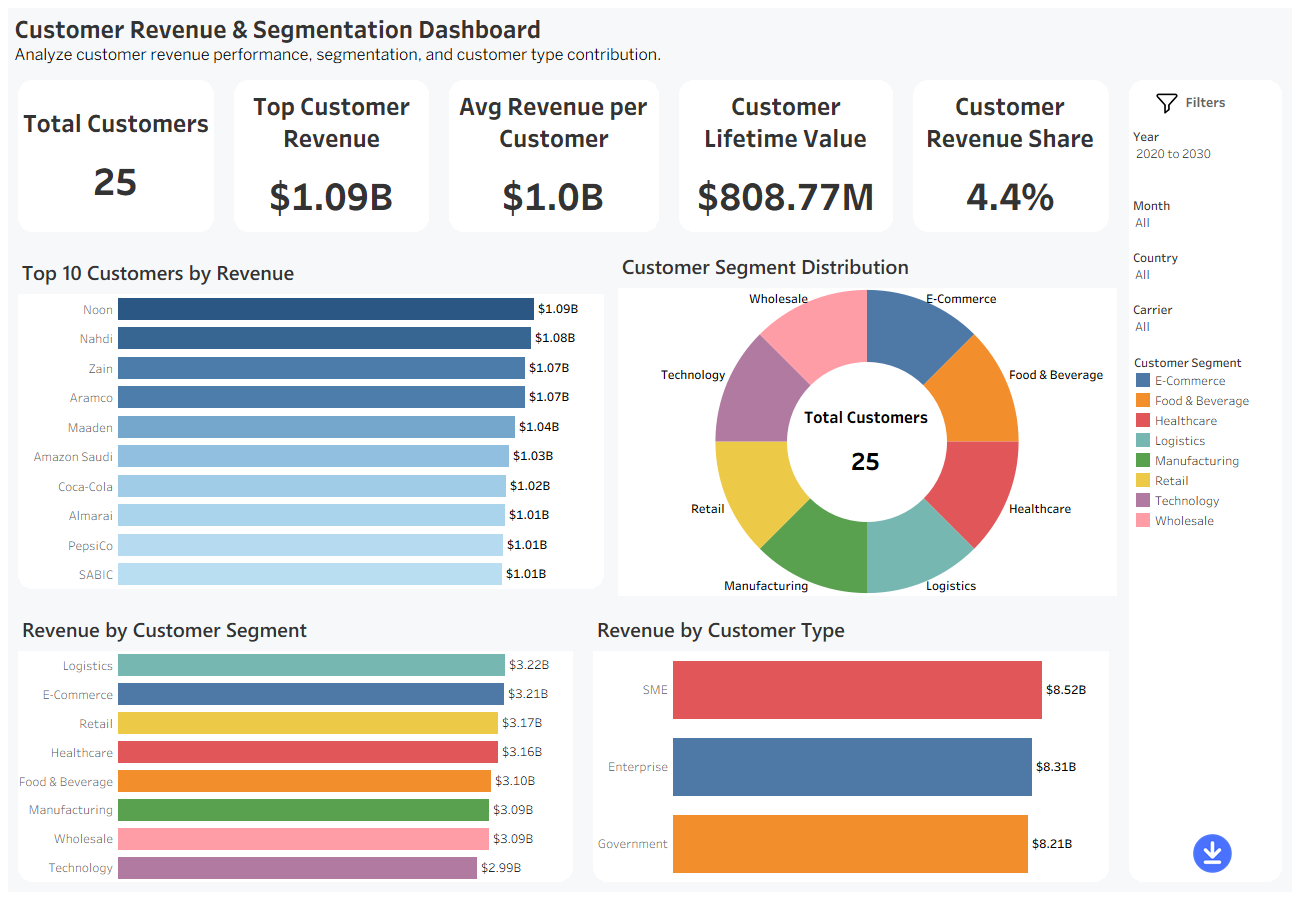

The dashboard page shown, as its layout file describes it:
{"tool":"tableau","page":{"name":"Customer Revenue & Segmentation Dashboard","canvas":[1300,900],"ordinal":0},"visuals":[{"type":"title","box":[8,8,1284,62]},{"type":"worksheet","title":"KPI - Total Customers","mark":"Text","box":[8,70,215.7,172]},{"type":"worksheet","title":"KPI - Top Customer Revenue","mark":"Automatic","box":[223.7,70,215.7,172]},{"type":"worksheet","title":"KPI - Avg Revenue per Customer","mark":"Automatic","box":[439.3,70,230,172]},{"type":"worksheet","title":"KPI - Customer Lifetime Value","mark":"Automatic","box":[669.3,70,234,172]},{"type":"worksheet","title":"KPI - Customer Revenue Share","mark":"Automatic","box":[903.3,70,215.7,172]},{"type":"text","box":[1129,80,153,43]},{"type":"image","param":"Image/filter.png","box":[1154,90,26,25]},{"type":"filter","title":"KPI - Avg Revenue per Customer","param":"[federated.0jvln5y0i2vktg16s0ugy1m90pce].[none:year_number:qk]","box":[1129,123,153,69]},{"type":"filter","title":"KPI - Avg Revenue per Customer","param":"[federated.0jvln5y0i2vktg16s0ugy1m90pce].[none:month_name:nk]","box":[1129,192,153,52]},{"type":"worksheet","title":"Top 10 Customers by Revenue","mark":"Automatic","rows":["customer_name"],"cols":["revenue_usd"],"box":[8,242,605.5,357]},{"type":"worksheet","title":"Customer Segment Distribution","mark":"Automatic","cols":["Calculation_1349133184978974","Calculation_1349133184978974"],"box":[613.5,242,505.5,357]},{"type":"filter","title":"KPI - Avg Revenue per Customer","param":"[federated.0jvln5y0i2vktg16s0ugy1m90pce].[none:country:nk]","box":[1129,244,153,52]},{"type":"filter","title":"KPI - Avg Revenue per Customer","param":"[federated.0jvln5y0i2vktg16s0ugy1m90pce].[none:carrier_name:nk]","box":[1129,296,153,52]},{"type":"legend","title":"Revenue by Customer Segment","param":"[federated.0jvln5y0i2vktg16s0ugy1m90pce].[none:customer_segment:nk]","box":[1129,348,153,186]},{"type":"worksheet","title":"Revenue by Customer Segment","mark":"Automatic","rows":["customer_segment"],"cols":["revenue_usd"],"box":[8,599,575,293]},{"type":"worksheet","title":"Revenue by Customer Type","mark":"Automatic","rows":["customer_type"],"cols":["revenue_usd"],"box":[583,599,536,293]},{"type":"dashboard-object","box":[1190,832,45,42]}]}

Visuals, with their boxes in screenshot pixels (x1, y1, x2, y2), scaled from the page's 1300x900 canvas onto the 1300x900 screenshot:
title: (8,8,1292,70)
"KPI - Total Customers" worksheet (Text marks): (8,70,224,242)
"KPI - Top Customer Revenue" worksheet: (224,70,439,242)
"KPI - Avg Revenue per Customer" worksheet: (439,70,669,242)
"KPI - Customer Lifetime Value" worksheet: (669,70,903,242)
"KPI - Customer Revenue Share" worksheet: (903,70,1119,242)
text: (1129,80,1282,123)
image: (1154,90,1180,115)
"KPI - Avg Revenue per Customer" filter: (1129,123,1282,192)
"KPI - Avg Revenue per Customer" filter: (1129,192,1282,244)
"Top 10 Customers by Revenue" worksheet: (8,242,614,599)
"Customer Segment Distribution" worksheet: (614,242,1119,599)
"KPI - Avg Revenue per Customer" filter: (1129,244,1282,296)
"KPI - Avg Revenue per Customer" filter: (1129,296,1282,348)
"Revenue by Customer Segment" legend: (1129,348,1282,534)
"Revenue by Customer Segment" worksheet: (8,599,583,892)
"Revenue by Customer Type" worksheet: (583,599,1119,892)
dashboard-object: (1190,832,1235,874)
